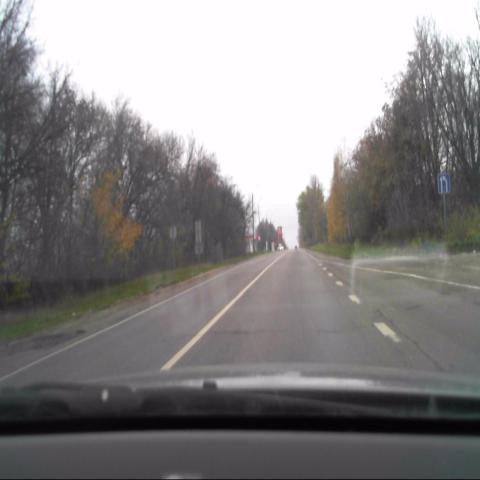5_15_5: (438, 173, 450, 194)
